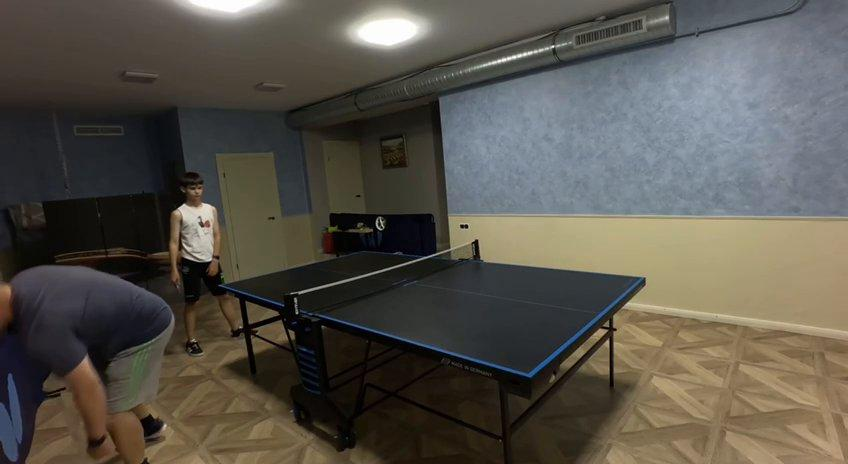Net: (283, 240, 481, 321)
Player1: (169, 172, 260, 356)
Player2: (0, 265, 174, 463)
Table: (222, 253, 640, 377)
